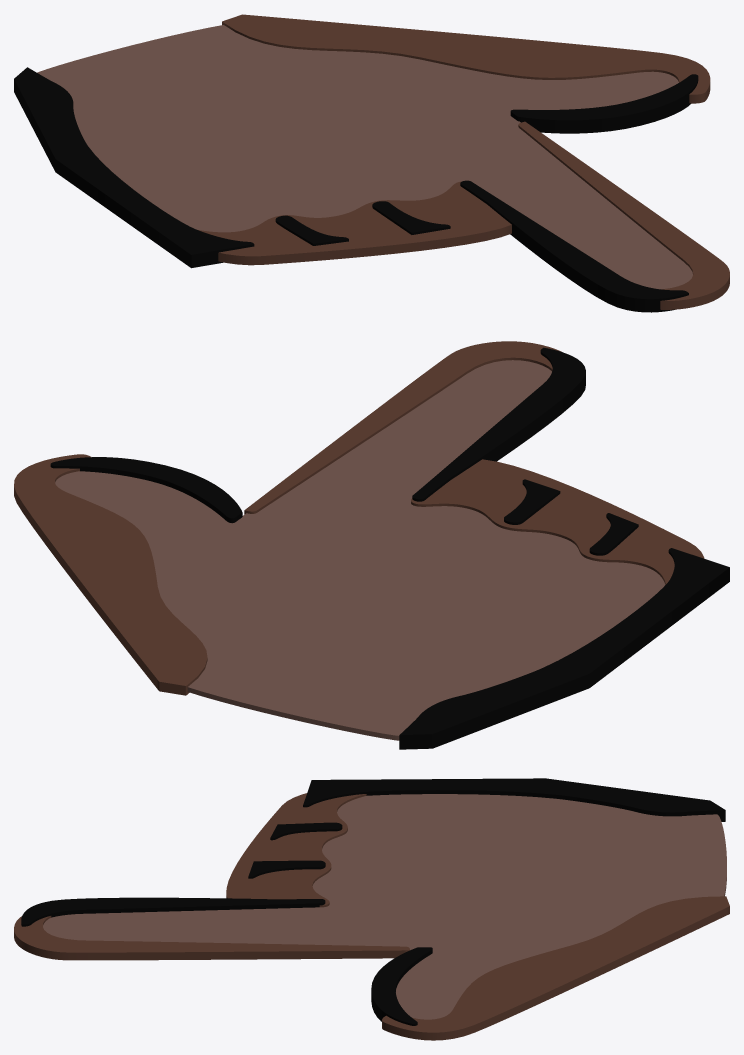
File: emoji_u1f447_1f3ff.glb
3 views of the same model, one above another, from view 1: azimuth 30°, elevation 25°; view 2: azimuth 150°, elevation 25°; view 3: azimuth 270°, elevation 25° (orthographic). The views are drawn at different scales.
Visible parts, largest first — view 1: emoji_u1f447_1f3ff; view 2: emoji_u1f447_1f3ff; view 3: emoji_u1f447_1f3ff.
Boxes of the visible parts, bbox=[...] form: emoji_u1f447_1f3ff: bbox=[14, 14, 729, 312]; emoji_u1f447_1f3ff: bbox=[14, 341, 729, 749]; emoji_u1f447_1f3ff: bbox=[14, 778, 729, 1040].
Size of the model in its own units: 0.0276 by 0.0006 by 0.0331.
